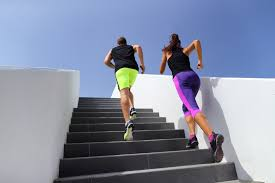escada: (73, 109, 190, 183)
